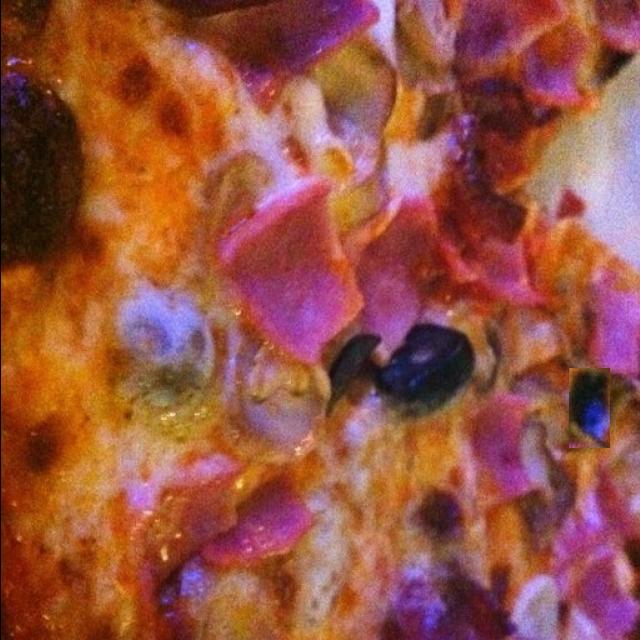olive: (381, 325, 480, 416), (326, 332, 388, 416), (568, 368, 609, 448)
pizza: (5, 0, 640, 640)
